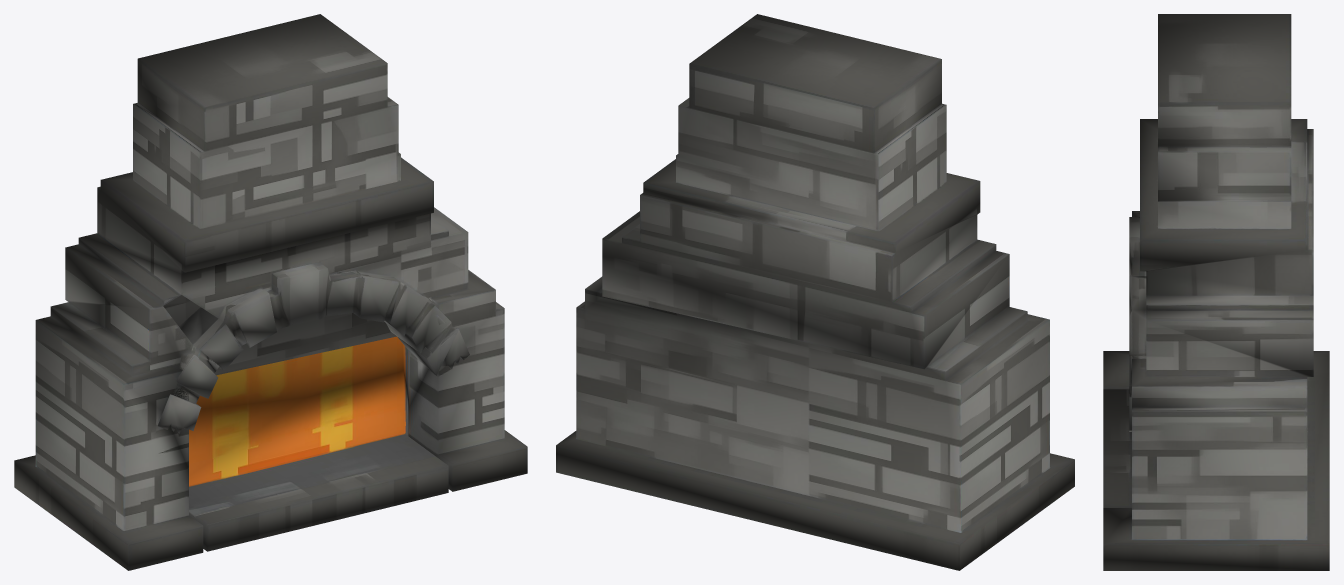
File: Retro Stone Fireplace.glb
3 views of the same model, side by side, from view 1: azimuth 30°, elevation 25°; view 2: azimuth 150°, elevation 25°; view 3: azimuth 270°, elevation 25° (orthographic).
Parts seen in each view (by area): view 1: pb_node; view 2: pb_node; view 3: pb_node.
Part boxes in pixels (<box>): pb_node: <box>14,14,527,570</box>; pb_node: <box>556,14,1074,570</box>; pb_node: <box>1103,14,1329,570</box>.
Size of the model in its own units: 0.998 by 0.998 by 0.4941.
1 material, 1 textured.
